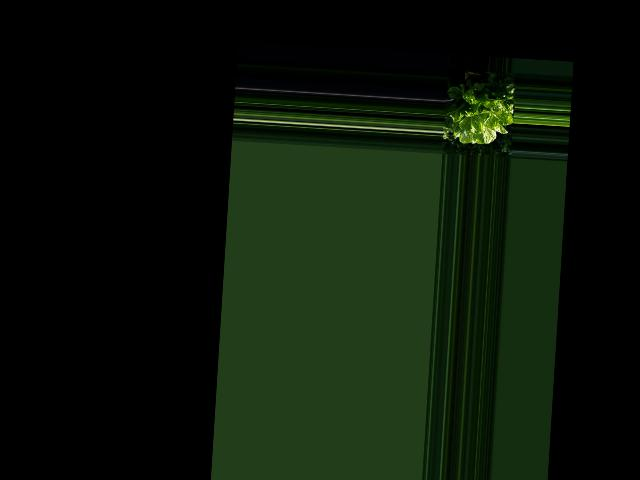lettuce: (444, 82, 508, 145)
